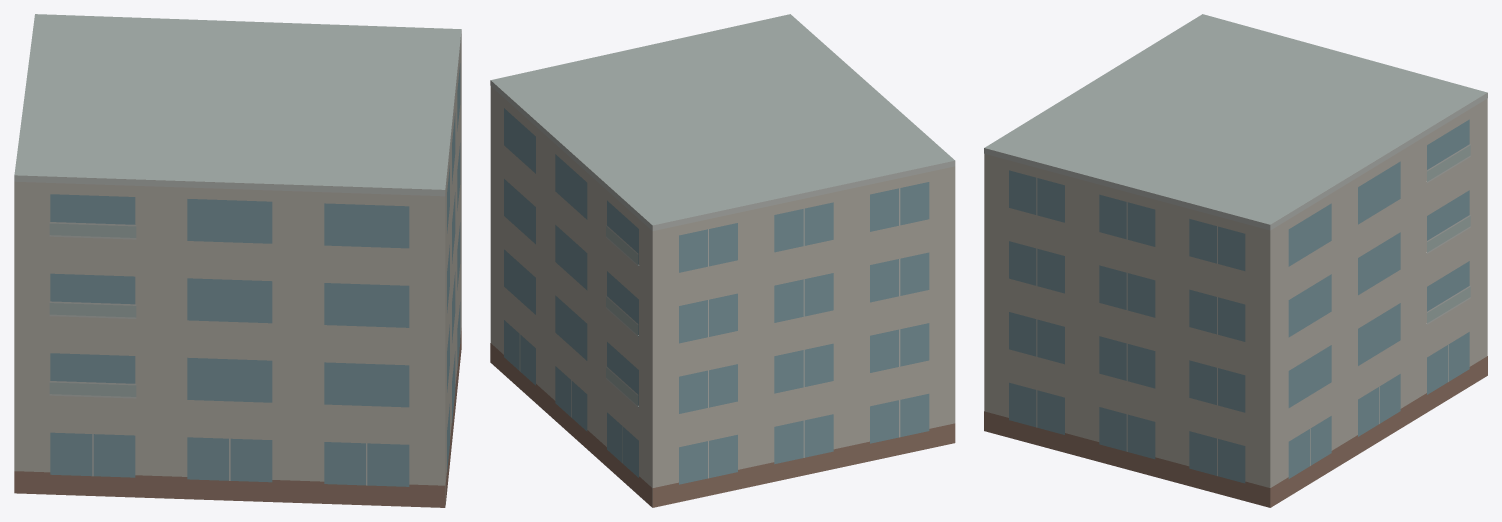
Rendered from survey-upis-32774928.glb.
The picture shows the model from 3 angles, left to right: view 1: azimuth 30°, elevation 25°; view 2: azimuth 150°, elevation 25°; view 3: azimuth 270°, elevation 25°; orthographic projection. The views are drawn at different scales.
Visible parts, largest first — view 1: survey-upis-32774928.tmp; view 2: survey-upis-32774928.tmp; view 3: survey-upis-32774928.tmp.
Part boxes in pixels (x1=…): survey-upis-32774928.tmp: x1=14, y1=14, x2=461, y2=507; survey-upis-32774928.tmp: x1=490, y1=14, x2=955, y2=507; survey-upis-32774928.tmp: x1=984, y1=14, x2=1487, y2=507.
Bounding box in the file's own units: 19.34 × 12.1 × 19.52.
